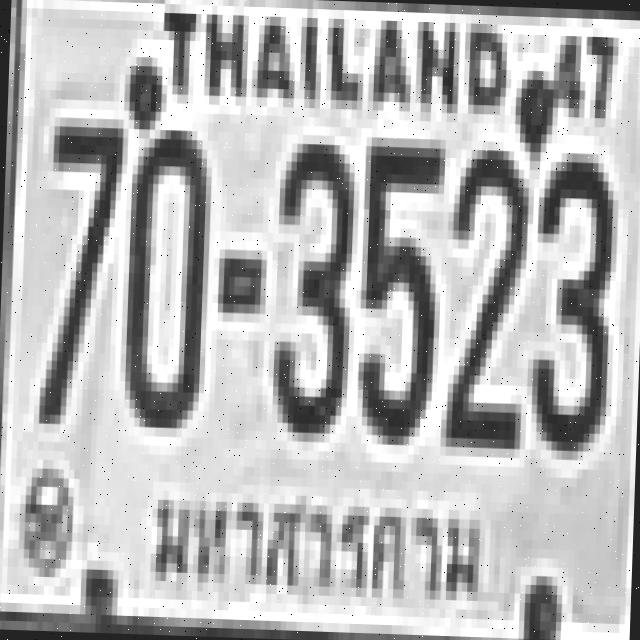0: (118, 120, 208, 420)
2: (440, 144, 524, 444)
3: (524, 147, 614, 447), (269, 134, 353, 434)
5: (353, 136, 437, 436)
7: (36, 112, 120, 421)
MahaSarakham: (142, 478, 502, 612)
